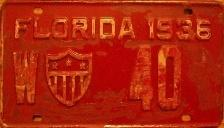0: (156, 42, 185, 116)
4: (127, 44, 154, 116)
W: (10, 41, 42, 113)
